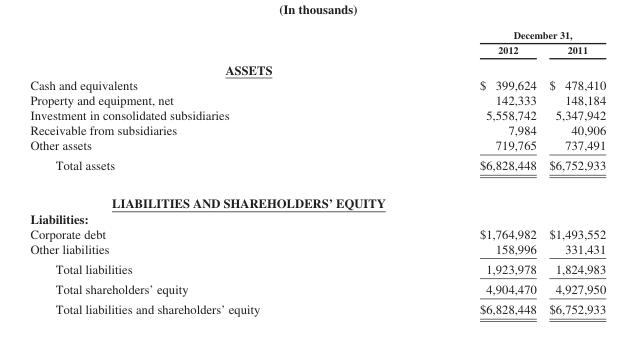table: (29, 28, 605, 316)
table column: (29, 28, 369, 316), (369, 28, 542, 316), (542, 28, 605, 316)
table column header: (29, 28, 605, 58)
table projected row header: (29, 183, 605, 210), (29, 58, 605, 76), (29, 210, 605, 225)
table row: (29, 155, 605, 183), (29, 183, 605, 210), (29, 278, 605, 299), (29, 258, 605, 278), (29, 58, 605, 76), (29, 137, 605, 155), (29, 240, 605, 258), (29, 299, 605, 316), (29, 42, 605, 58), (29, 91, 605, 107), (29, 76, 605, 91), (29, 107, 605, 122), (29, 122, 605, 137), (29, 210, 605, 225), (29, 225, 605, 240), (29, 28, 605, 42)
table spanning cell: (369, 28, 605, 42)
